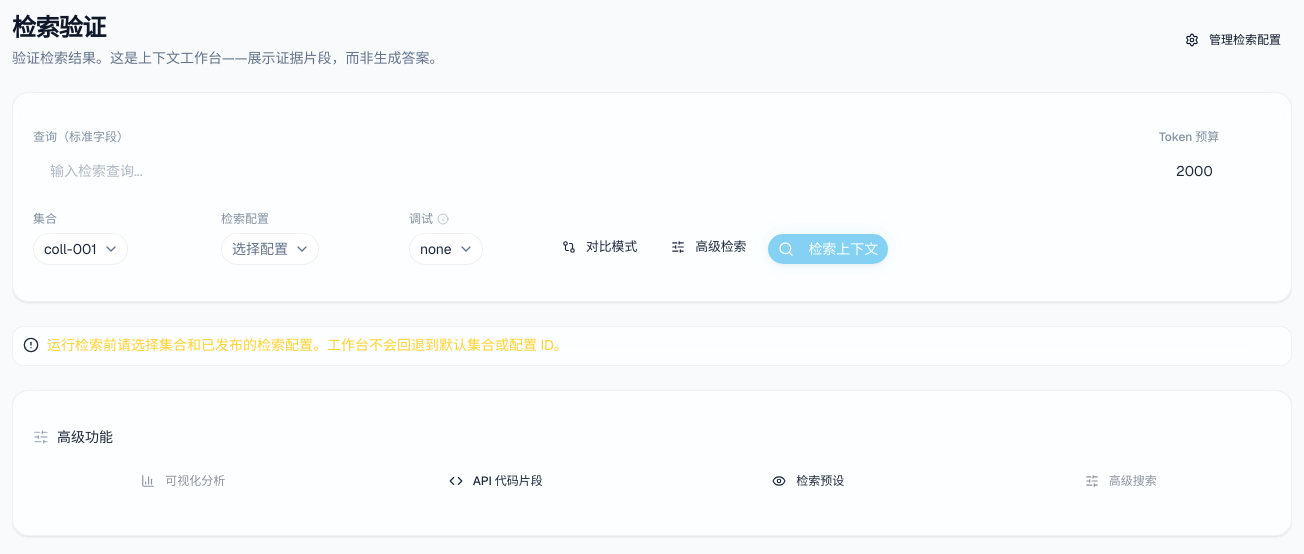
Test case: RetrievalPage › Loading State › shows searching state while retrieve is in flight
The width and height of the screenshot is (1304, 554).
Check: the button "检索上下文" is shown, box [767,233,889,265]
Click the dropdown labelled "选择配置 ▼": (270, 249) [221,233,319,265]
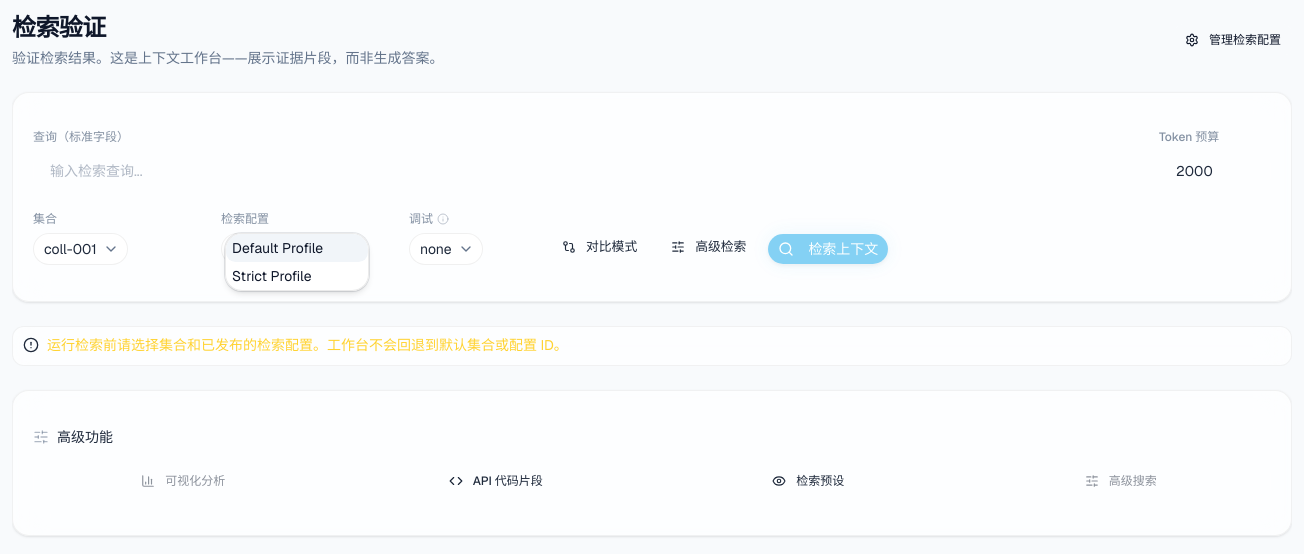
Check: the option "Default Profile" is shown
Click the option "Default Profile": (297, 248) [226,234,368,262]
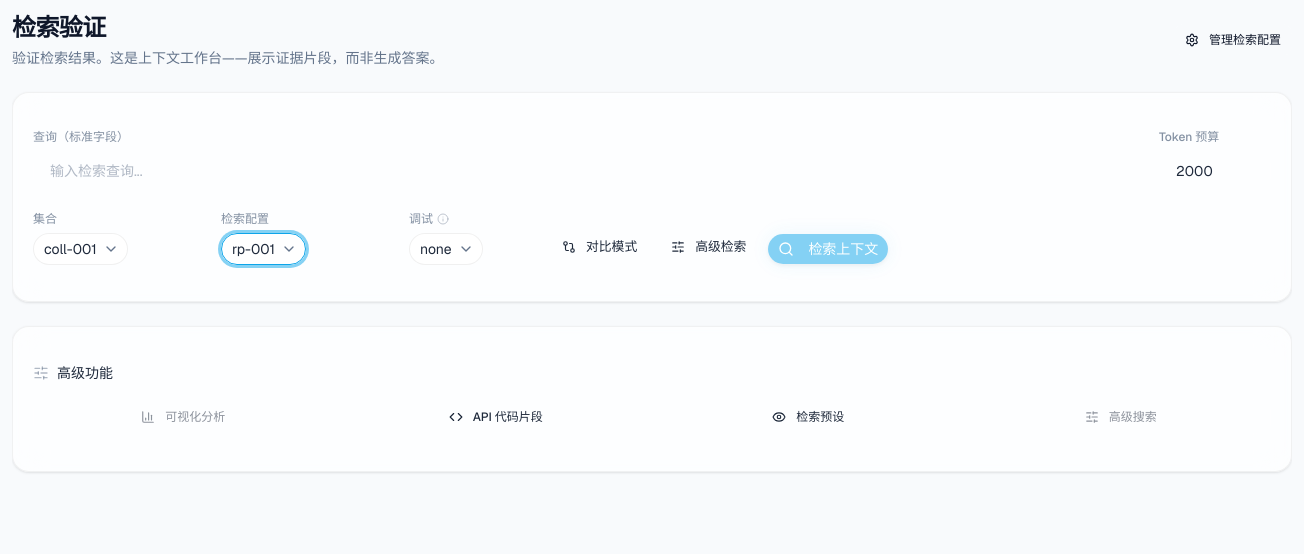
In the field with placeholder "输入检索查询...": (590, 171) [33,151,1147,191], type "test query"
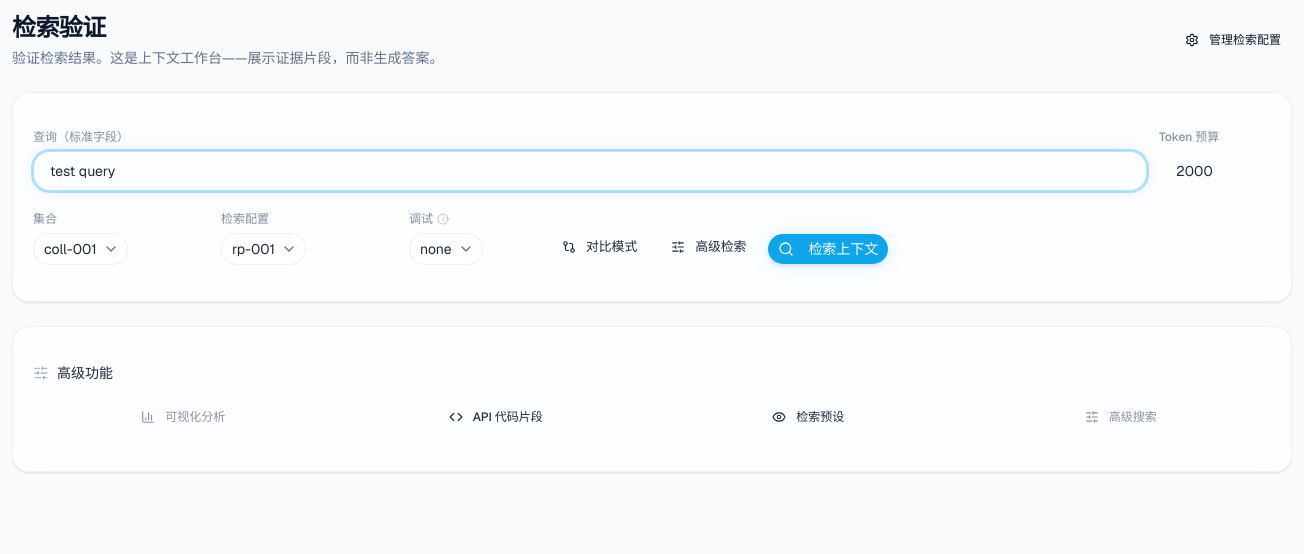
Check: the button "检索上下文" is enabled
Click the button "检索上下文": (828, 249) [767,233,889,265]
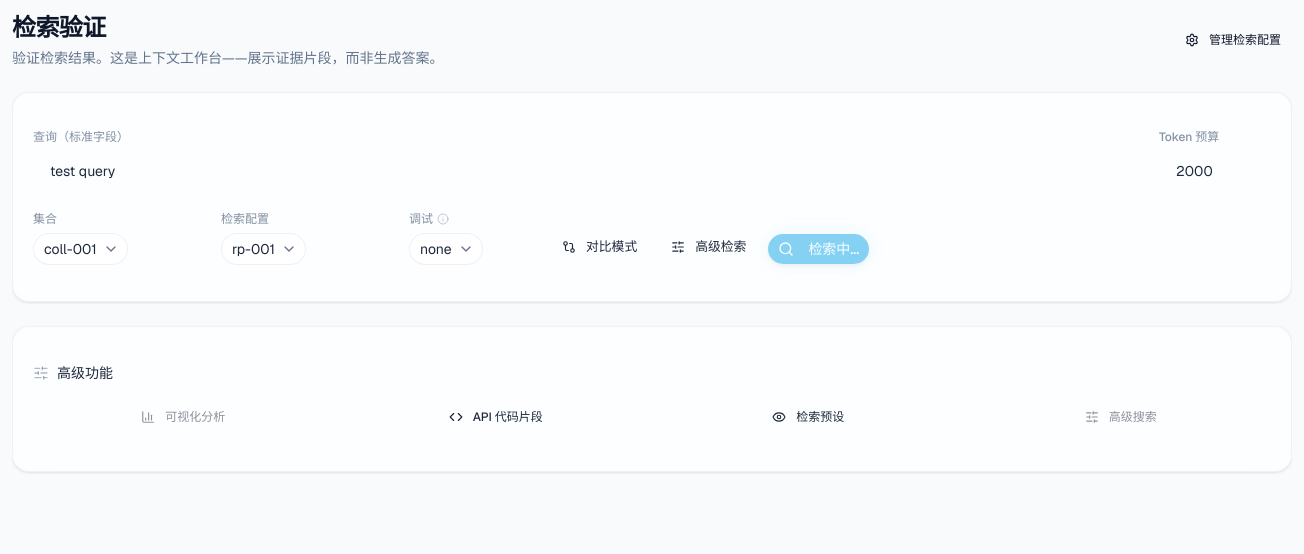
Check: the button "检索中..." is shown, box [767,233,870,265]
